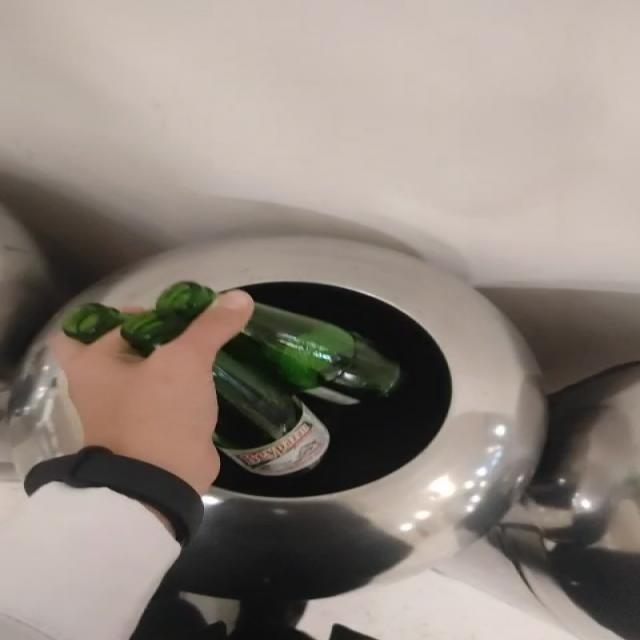glass: (213, 303, 401, 476), (61, 283, 213, 357)
